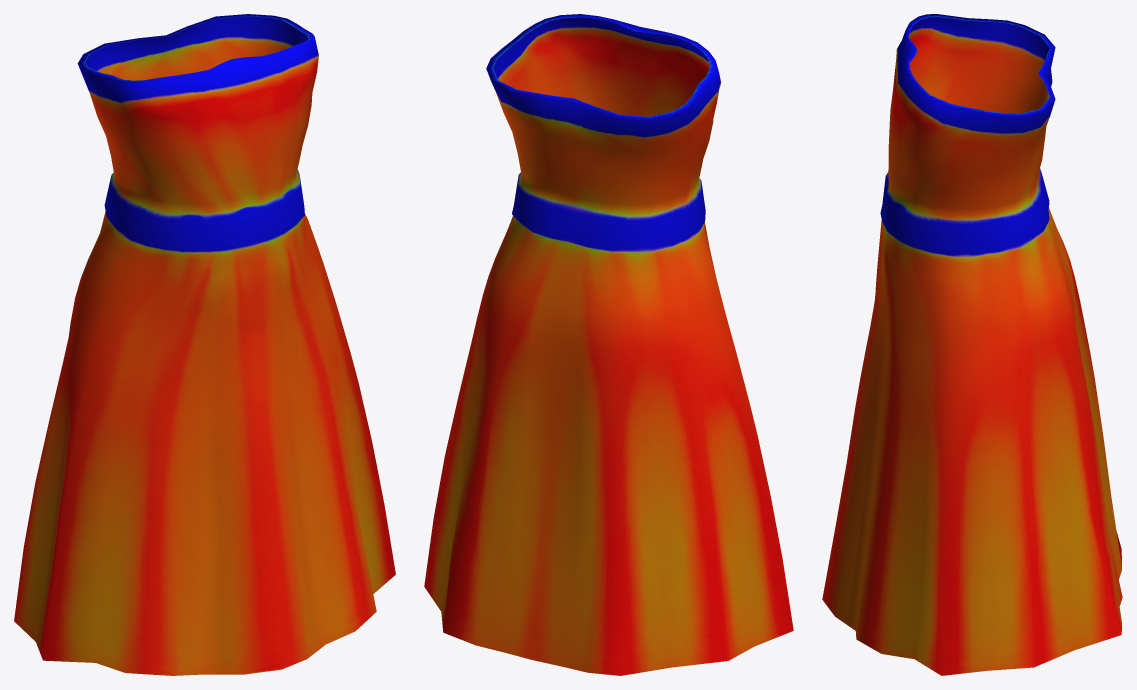
File: Overall_Sundress.obj
3 renders of one model, left to right at view 1: azimuth 30°, elevation 25°; view 2: azimuth 150°, elevation 25°; view 3: azimuth 270°, elevation 25°, orthographic. The views are drawn at different scales.
Parts seen in each view (by area): view 1: Overall_Sundress_0; view 2: Overall_Sundress_0; view 3: Overall_Sundress_0.
Part boxes in pixels (x1,y1,x2,y2): Overall_Sundress_0: [14, 14, 395, 675]; Overall_Sundress_0: [424, 14, 793, 675]; Overall_Sundress_0: [822, 14, 1122, 675].
Size of the model in its own units: 0.4966 by 0.777 by 0.3828.
Materials: 1 (1 with a texture image).
